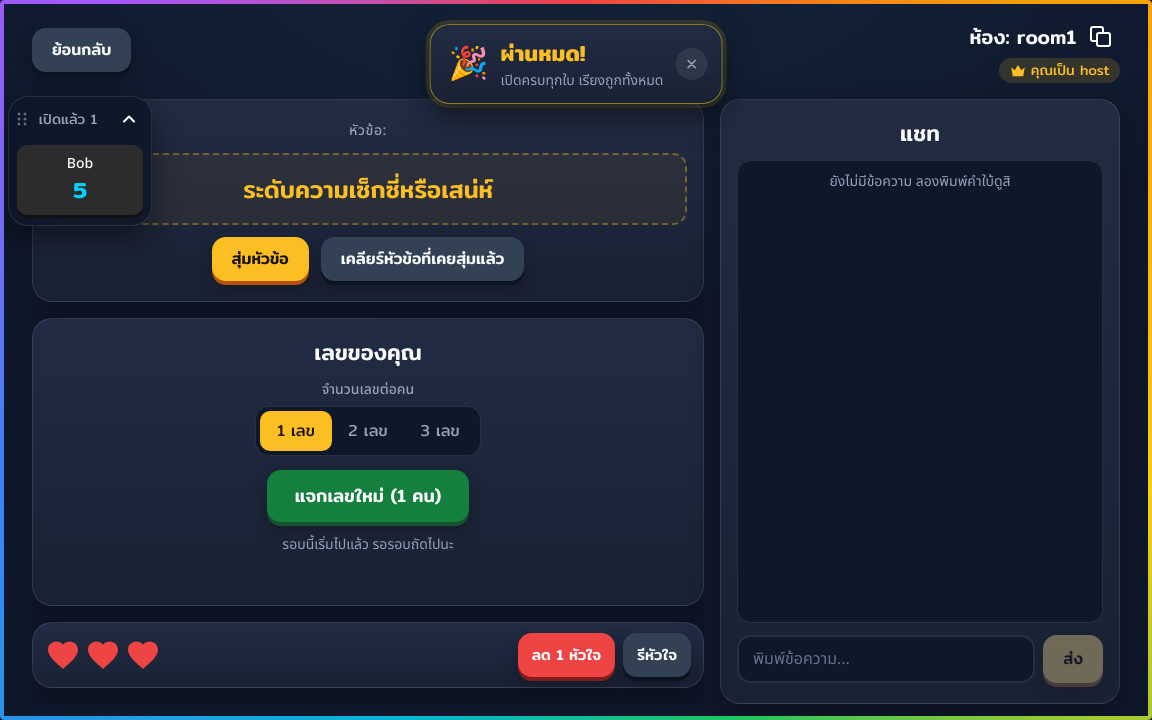
it: topic › host สุ่มหัวข้อไม่ซ้ำกับที่เคยสุ่ม และรีเซ็ตเลข/เลขที่เปิดของทุกคน
This screenshot has width=1152, height=720.
Expected: the text "หัวข้อ:" is shown, [349,120,387,141]
Click the button "สุ่มหัวข้อ".
click(260, 259)  # box [212,237,309,281]
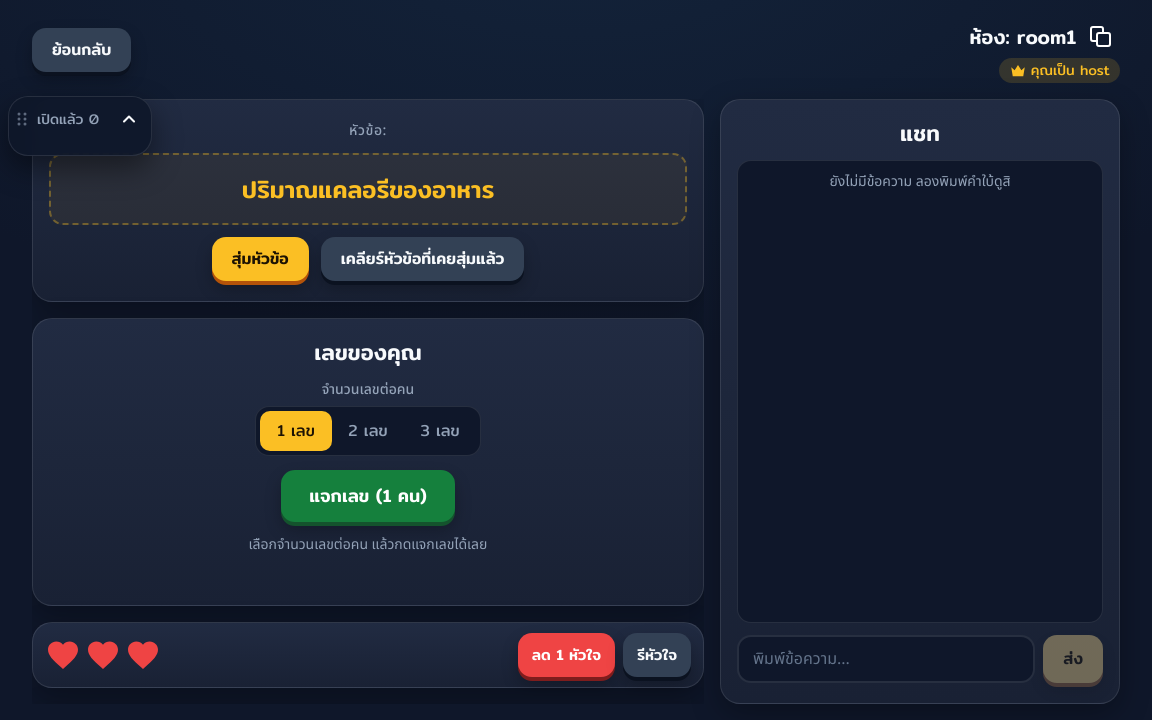
Now the heading "ปริมาณแคลอรีของอาหาร" is shown, box [242,174,494,204]
